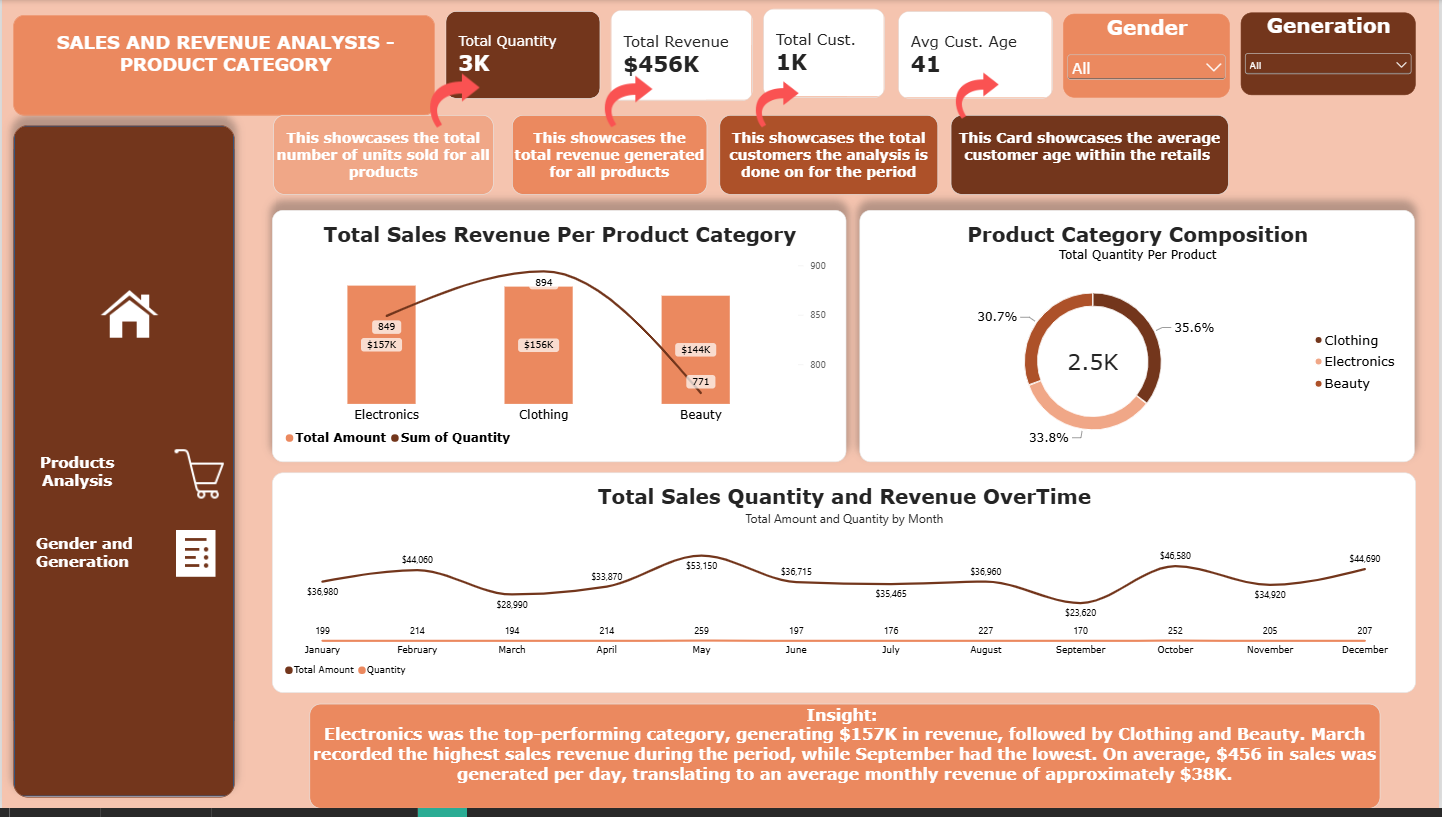

The page's visual inventory and layout, read from the dashboard file:
{"tool":"powerbi","page":{"name":"Products","canvas":[1920,1080],"ordinal":1},"visuals":[{"type":"shape","box":[14.7,167.5,296.3,898.2],"z":3000},{"type":"shape","box":[15.4,19.2,563.5,134.6],"z":5000},{"type":"textbox","box":[32.7,42.3,530.8,96.2],"z":6000},{"type":"actionButton","box":[33.1,686.5,277.3,104.3],"z":7000},{"type":"image","box":[220.9,699.4,77.2,77.2],"z":8000},{"type":"cardVisual","title":"Total ","fields":{"Data":["Sum(retail_sales_dataset.Quantity)"]},"box":[592.2,14.6,206.4,116.8],"z":9000},{"type":"cardVisual","fields":{"Data":["Sum(retail_sales_dataset.Total Amount)"]},"box":[813.5,12.9,189.6,121.5],"z":10000},{"type":"cardVisual","fields":{"Data":["CountNonNull(retail_sales_dataset.Customer ID)"]},"box":[1017.6,12.5,162.6,118.9],"z":11000},{"type":"cardVisual","fields":{"Data":["Avg(retail_sales_dataset.Age)"]},"box":[1196.9,14.6,206.4,116.8],"z":12000},{"type":"actionButton","box":[0,577.9,200.6,106.7],"z":13000},{"type":"image","box":[230.1,585.3,68.8,91.7],"z":14000},{"type":"image","box":[132.5,381,77.2,83.4],"z":15000},{"type":"textbox","box":[362.8,154.3,294,106.3],"z":16000},{"type":"textbox","box":[681.8,154.3,260.6,106.3],"z":17000},{"type":"textbox","box":[959.2,154.3,291.9,106.3],"z":18000},{"type":"textbox","box":[1267.8,154.3,371.2,106.3],"z":19000},{"type":"image","box":[510.9,89.7,185.6,85.5],"z":20000},{"type":"image","box":[742.3,93.8,185.6,81.3],"z":21000},{"type":"image","box":[942.5,102.2,185.6,73],"z":22000},{"type":"image","box":[1209.4,89.7,185.6,73],"z":23000},{"type":"textbox","box":[410.4,940.5,1430.1,139.9],"z":24000},{"type":"lineChart","title":"Total Sales Quantity and Revenue OverTime","fields":{"Category":["retail_sales_dataset.Date.Variation.Date Hierarchy.Year","retail_sales_dataset.Date.Variation.Date Hierarchy.Quarter","retail_sales_dataset.Date.Variation.Date Hierarchy.Month"],"Y":["Sum(retail_sales_dataset.Total Amount)","Sum(retail_sales_dataset.Quantity)"]},"box":[360.7,631.3,1527.6,294.5],"z":26001},{"type":"lineStackedColumnComboChart","title":"Total Sales Revenue Per Product Category","fields":{"Category":["retail_sales_dataset.Product Category"],"Y":["Sum(retail_sales_dataset.Total Amount)"],"Y2":["Sum(retail_sales_dataset.Quantity)"]},"box":[360.7,279.8,767.5,336.8],"z":26002},{"type":"donutChart","title":"Product Category Composition","fields":{"Category":["retail_sales_dataset.Product Category"],"Y":["Sum(retail_sales_dataset.Quantity)"]},"box":[1144.8,279.8,741.7,336.8],"z":26003},{"type":"slicer","title":"Gender","fields":{"Values":["retail_sales_dataset.Gender"]},"box":[1417.2,18.4,222.7,112.3],"z":26004},{"type":"slicer","title":"Generation","fields":{"Values":["retail_sales_dataset.Generation"]},"box":[1654.6,16.6,233.7,110.4],"z":26005}]}

Visuals, with their boxes in screenshot pixels (x1, y1, x2, y2), scaled from the page's 1920x1080 canvas onto the 1442x817 screenshot:
shape: bbox(11, 127, 234, 806)
shape: bbox(12, 15, 435, 116)
textbox: bbox(25, 32, 423, 105)
actionButton: bbox(25, 519, 233, 598)
image: bbox(166, 529, 224, 587)
"Total " cardVisual: bbox(445, 11, 600, 99)
cardVisual - Sum(retail_sales_dataset.Total Amount): bbox(611, 10, 753, 102)
cardVisual - CountNonNull(retail_sales_dataset.Customer ID): bbox(764, 9, 886, 99)
cardVisual - Avg(retail_sales_dataset.Age): bbox(899, 11, 1054, 99)
actionButton: bbox(0, 437, 151, 518)
image: bbox(173, 443, 224, 512)
image: bbox(100, 288, 157, 351)
textbox: bbox(272, 117, 493, 197)
textbox: bbox(512, 117, 708, 197)
textbox: bbox(720, 117, 940, 197)
textbox: bbox(952, 117, 1231, 197)
image: bbox(384, 68, 523, 133)
image: bbox(557, 71, 697, 132)
image: bbox(708, 77, 847, 133)
image: bbox(908, 68, 1048, 123)
textbox: bbox(308, 711, 1382, 816)
"Total Sales Quantity and Revenue OverTime" lineChart: bbox(271, 478, 1418, 700)
"Total Sales Revenue Per Product Category" lineStackedColumnComboChart: bbox(271, 212, 847, 466)
"Product Category Composition" donutChart: bbox(860, 212, 1417, 466)
"Gender" slicer: bbox(1064, 14, 1232, 99)
"Generation" slicer: bbox(1243, 13, 1418, 96)
